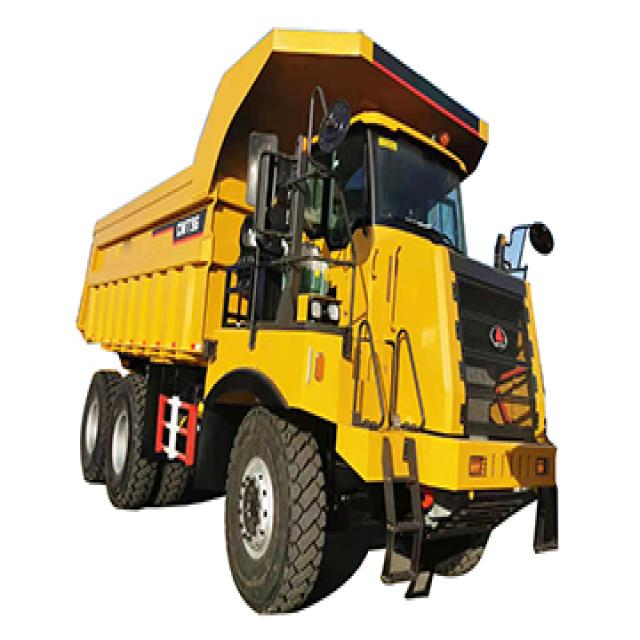dump_truck: (46, 18, 567, 610)
